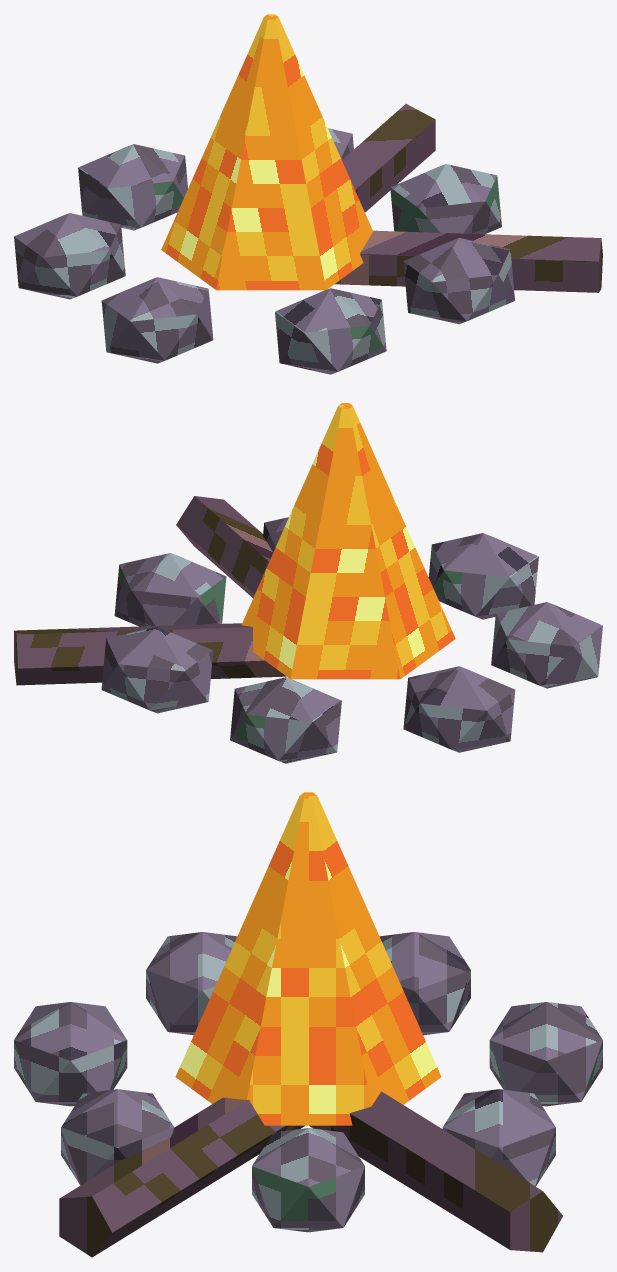
File: r01_fogueira.glb
The picture shows the model from 3 angles, top to bottom: view 1: azimuth 30°, elevation 25°; view 2: azimuth 150°, elevation 25°; view 3: azimuth 270°, elevation 25°; orthographic projection. The views are drawn at different scales.
Visible parts, largest first — view 1: r01_fogueira; view 2: r01_fogueira; view 3: r01_fogueira.
Part boxes in pixels (x1,y1,x2,y2): r01_fogueira: [14, 14, 602, 374]; r01_fogueira: [14, 403, 602, 763]; r01_fogueira: [14, 792, 602, 1257].
Size of the model in its own units: 1.44 by 0.83 by 1.33.
Materials: 3 (3 with a texture image).
